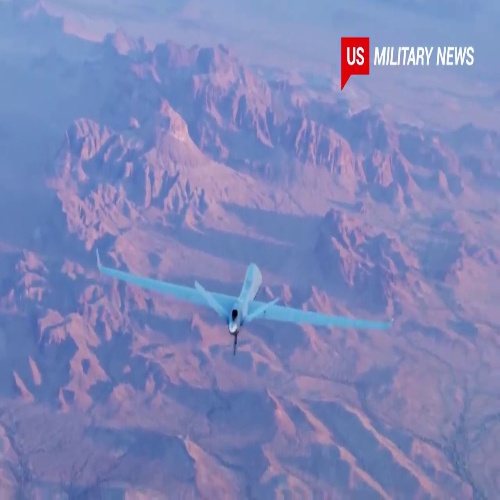uav545: (89, 247, 398, 353)
